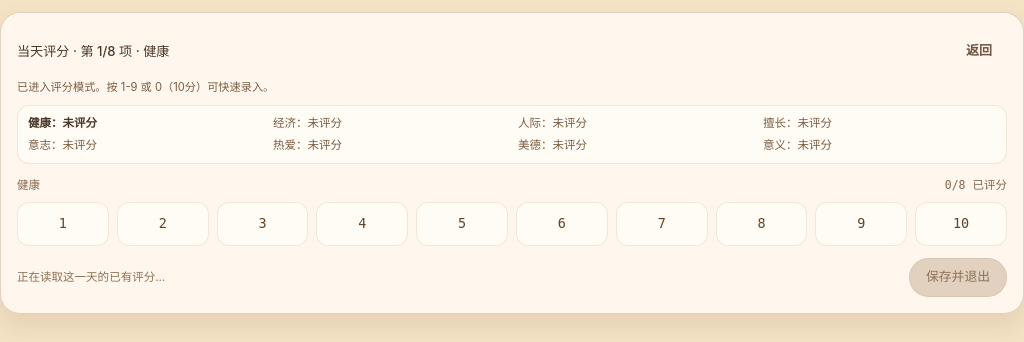
Scenario: happiness score entry › advances in a stable fixed order after each score selection
Expected: the text "当天评分 · 第 1/8 项 · 健康" is shown, [17,40,169,62]
Click the button named "健康6分": point(562, 224) [516,202,608,246]
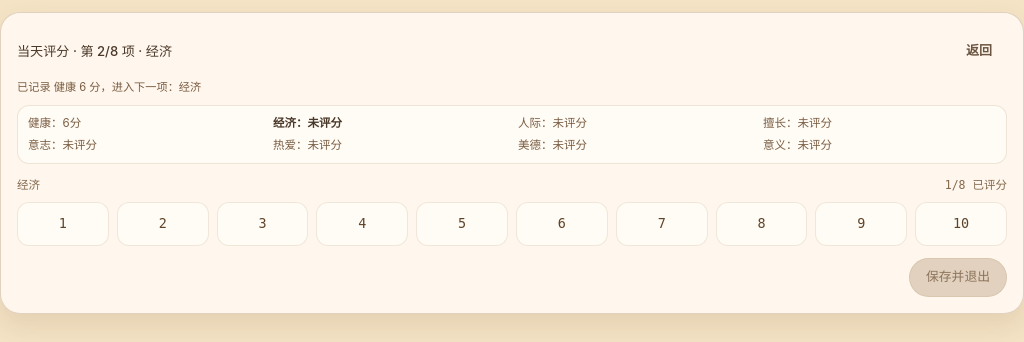
Expected: the text "当天评分 · 第 2/8 项 · 经济" is shown, [17,40,172,62]
Click the button named "经济7分": point(662, 224) [616,202,708,246]
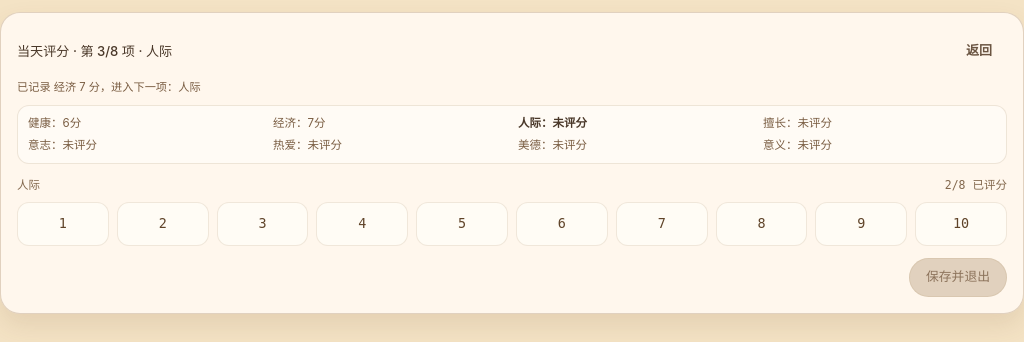
Expected: the text "当天评分 · 第 3/8 项 · 人际" is shown, [17,40,172,62]
Click the button named "人际5分": point(462, 224) [416,202,508,246]
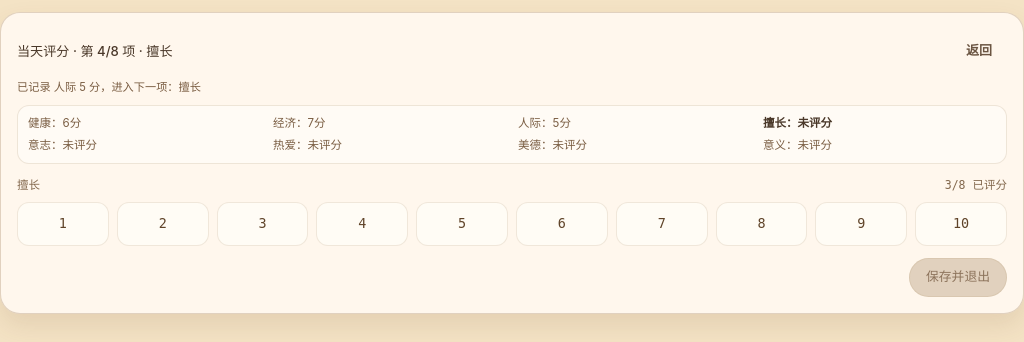
Expected: the text "当天评分 · 第 4/8 项 · 擅长" is shown, [17,40,173,62]
